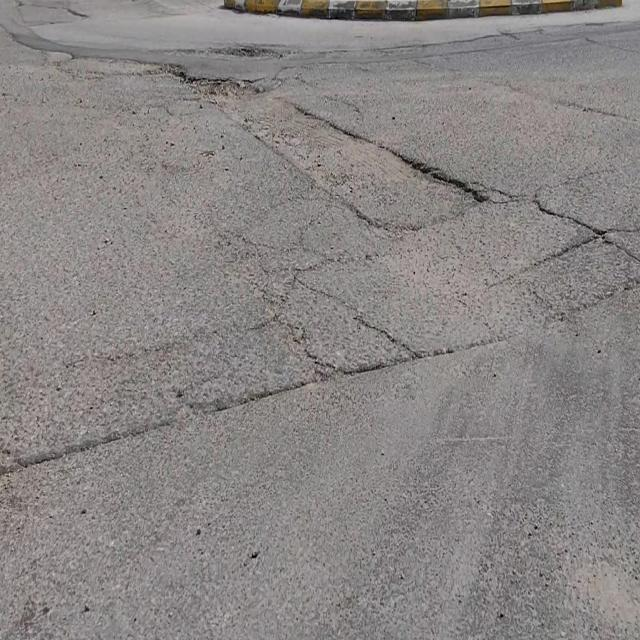Potholes: (326, 124, 499, 231)
